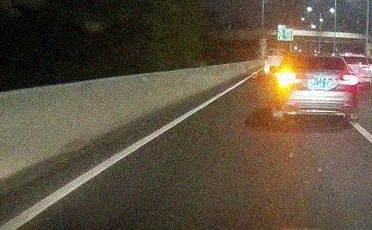L_light: (276, 73, 295, 85)
R_light: (338, 74, 358, 87)
T_light: (312, 56, 321, 59)
night-left: (269, 54, 358, 125)
